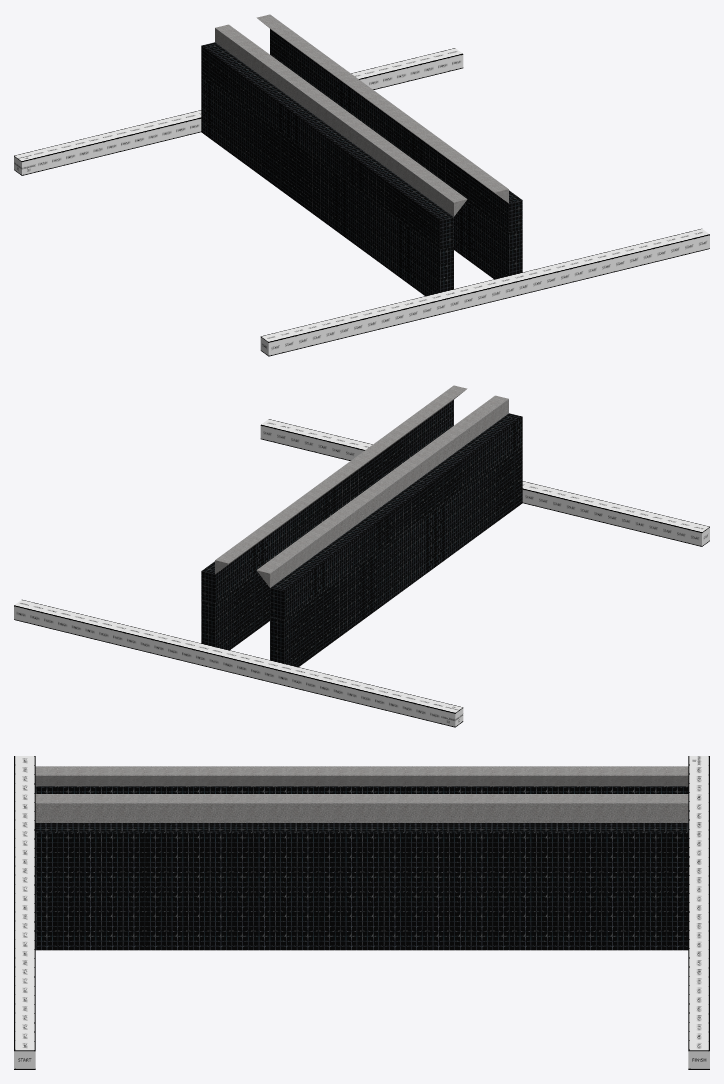
File: challenge32_03.gltf
3 views of the same model, one above another, from view 1: azimuth 30°, elevation 25°; view 2: azimuth 150°, elevation 25°; view 3: azimuth 270°, elevation 25° (orthographic). The views are drawn at different scales.
Visible parts, largest first — view 1: map; view 2: map; view 3: map.
Boxes of the visible parts, box(x1,y1,x2,y2) form: map: box(14, 14, 709, 356); map: box(14, 385, 709, 727); map: box(14, 756, 709, 1069).
Size of the model in its own units: 64 by 14 by 64.
Materials: 5 (5 with a texture image).
